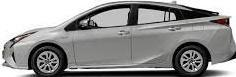Cars: (3, 2, 236, 77)
